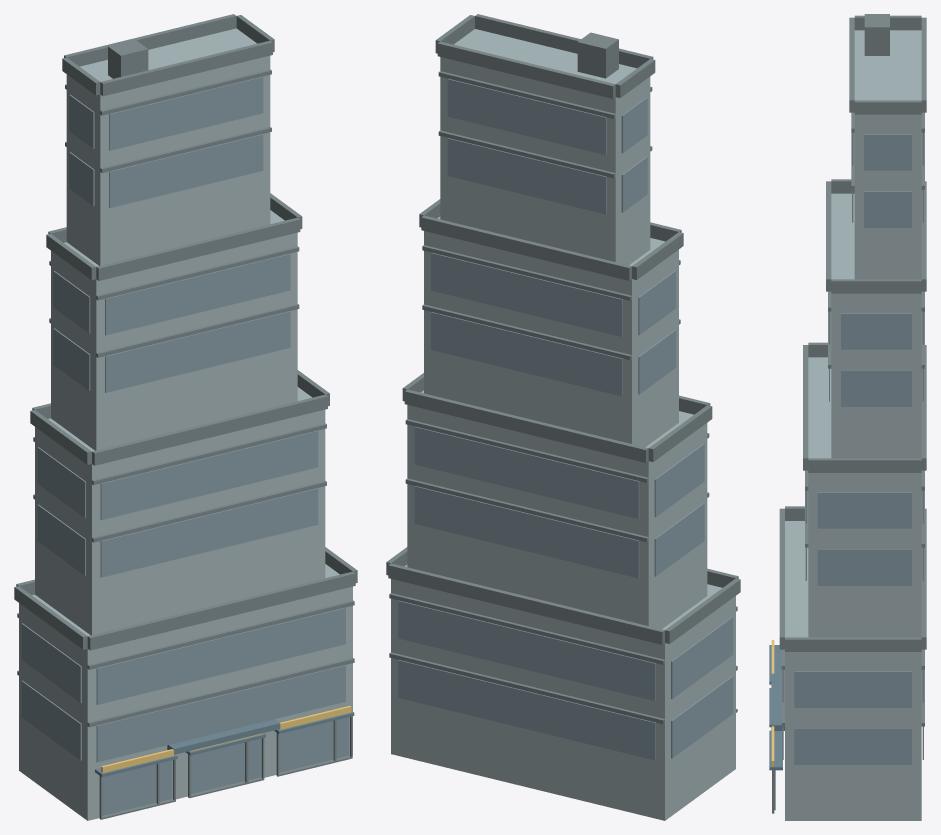
Rendered from commercial_2x1_terraces.glb.
3 renders of one model, left to right at view 1: azimuth 30°, elevation 25°; view 2: azimuth 150°, elevation 25°; view 3: azimuth 270°, elevation 25°, orthographic. The views are drawn at different scales.
Visible parts, largest first — view 1: commercial_2x1_terraces_0; view 2: commercial_2x1_terraces_0; view 3: commercial_2x1_terraces_0.
Part boxes in pixels (bbox=[...]): commercial_2x1_terraces_0: bbox=[14, 14, 357, 820]; commercial_2x1_terraces_0: bbox=[386, 14, 740, 820]; commercial_2x1_terraces_0: bbox=[769, 14, 926, 820].
Bounding box in the file's own units: 15 × 37.5 × 7.5.
